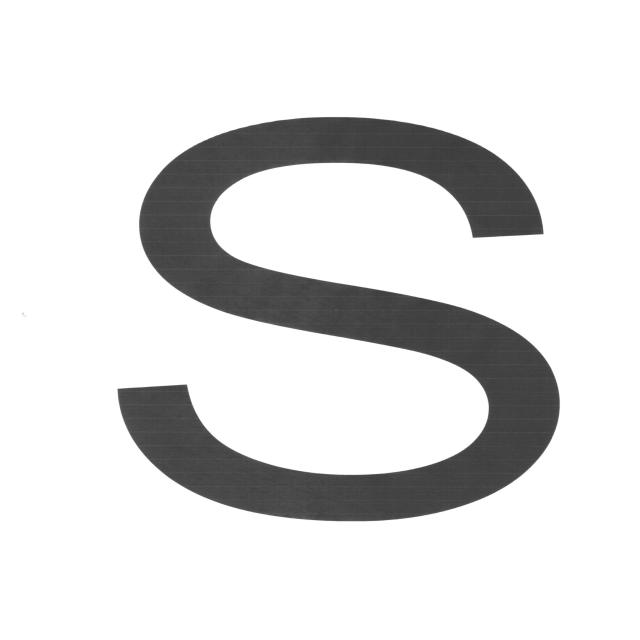s: (86, 99, 582, 535)
